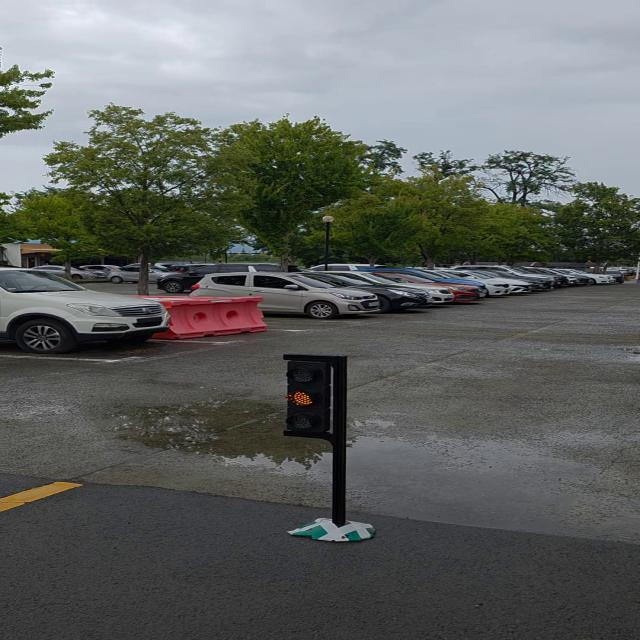yellow: (288, 356, 342, 442)
